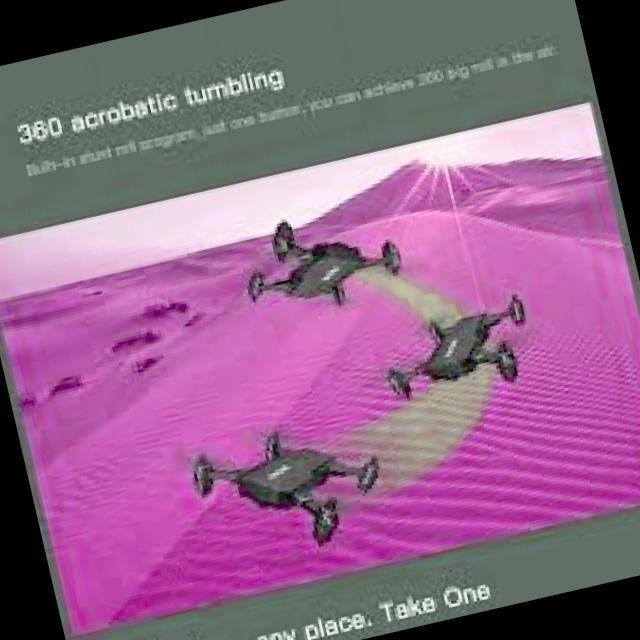drone: (162, 380, 412, 570), (218, 186, 416, 348), (348, 277, 558, 421)
